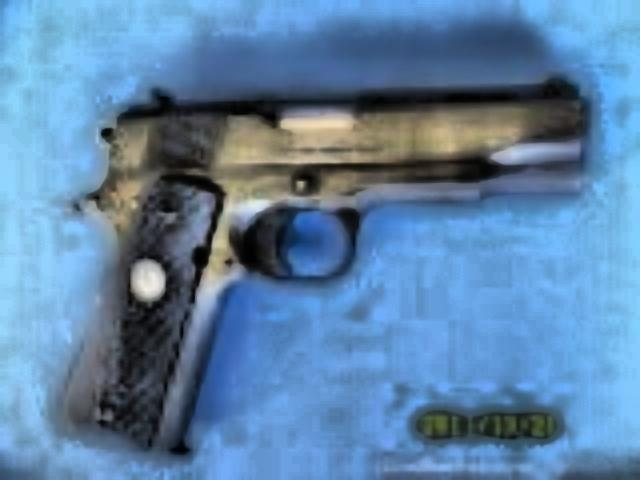pistol: (36, 72, 588, 456)
